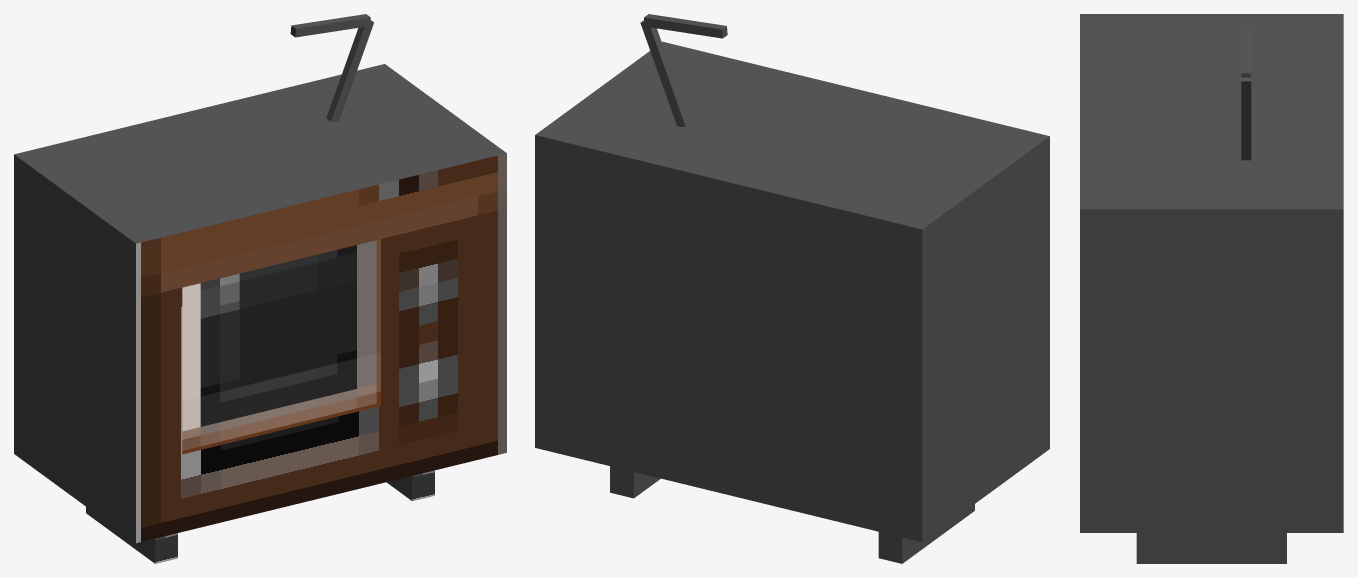
Rendered from television_exhibit.glb.
The picture shows the model from 3 angles, left to right: view 1: azimuth 30°, elevation 25°; view 2: azimuth 150°, elevation 25°; view 3: azimuth 270°, elevation 25°; orthographic projection. The views are drawn at different scales.
Parts seen in each view (by area): view 1: Wooden_TV, TV_Screen; view 2: Wooden_TV; view 3: Wooden_TV.
Boxes of the visible parts, x1,y1,x2,y2 form: Wooden_TV: [14, 14, 506, 563]; TV_Screen: [182, 239, 380, 454]; Wooden_TV: [535, 14, 1049, 563]; Wooden_TV: [1080, 14, 1343, 563].
Bounding box in the file's own units: 1.14 × 1.33 × 0.654.
2 materials, 2 textured.
